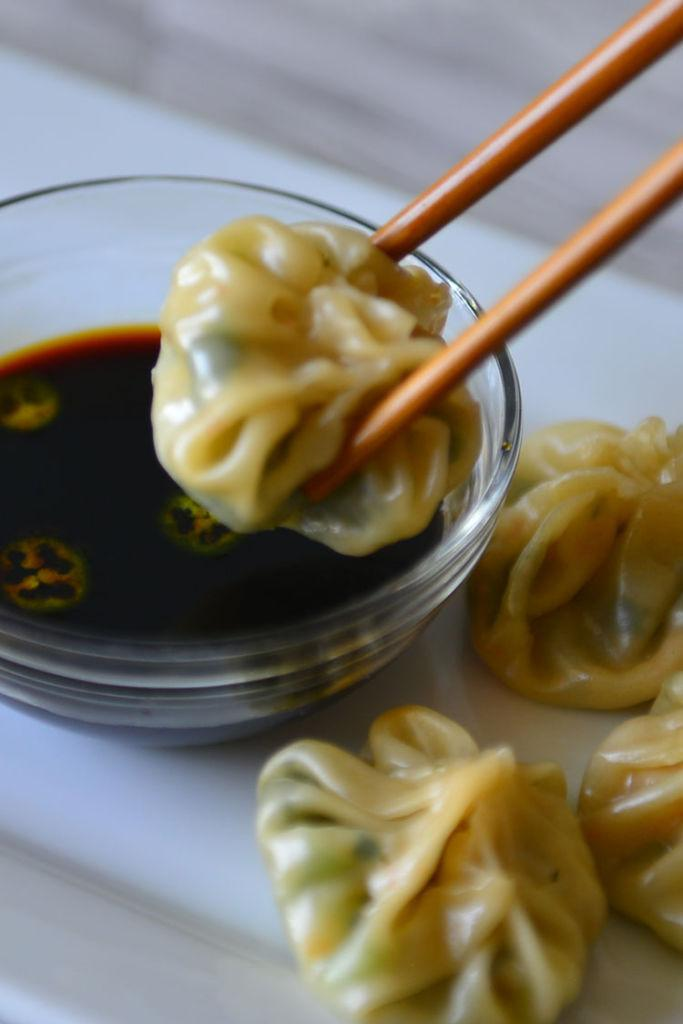momos: (256, 706, 606, 1024), (152, 216, 480, 555), (494, 418, 682, 707), (578, 710, 683, 949)
